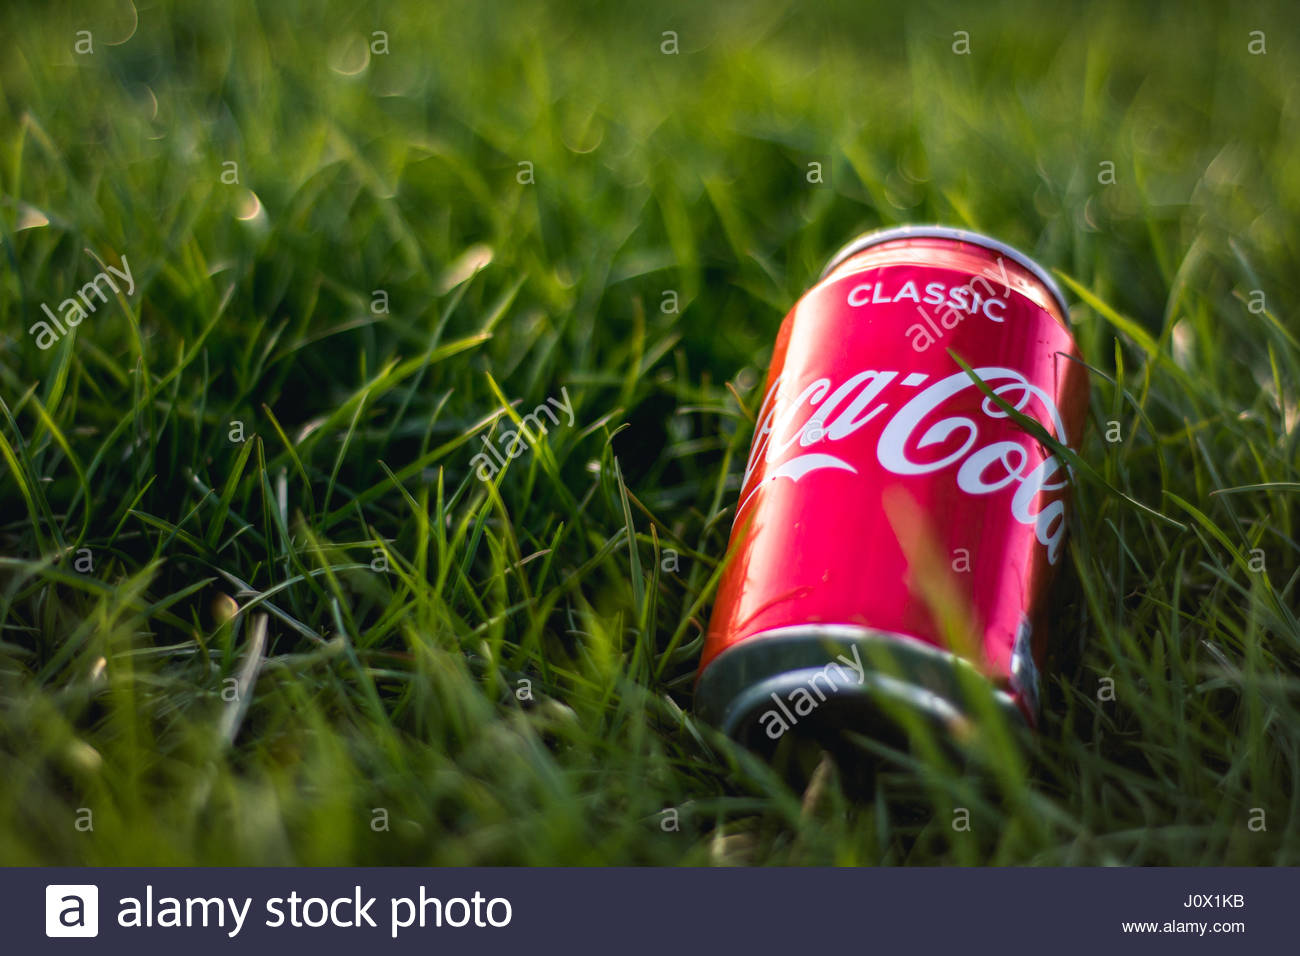can: (682, 216, 1098, 804)
